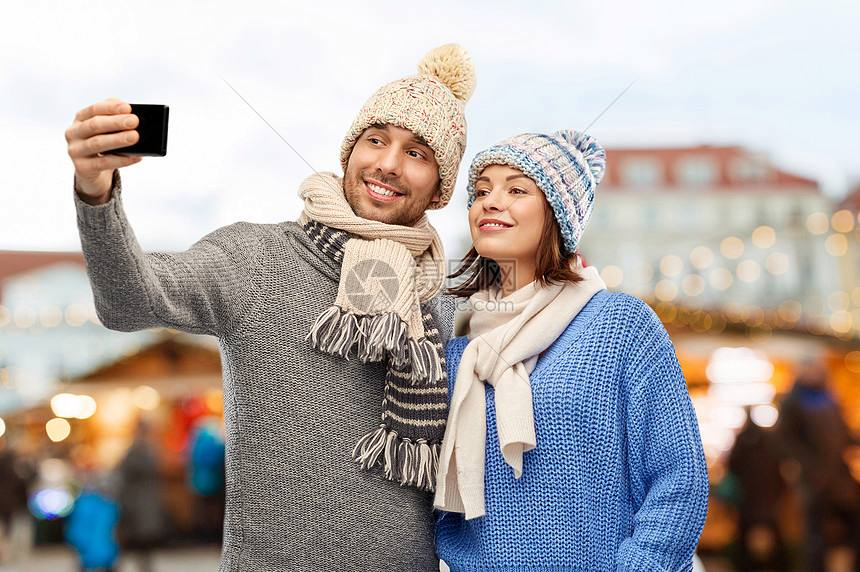taking photos: (61, 91, 176, 199)
